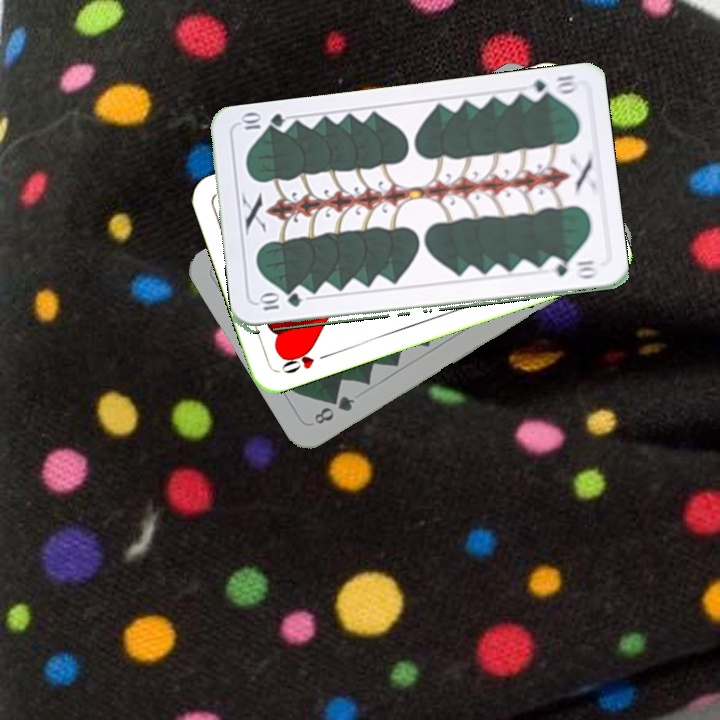G10: (520, 71, 579, 103), (255, 292, 304, 313)
G8: (310, 391, 358, 427)
HO: (277, 344, 333, 377)
